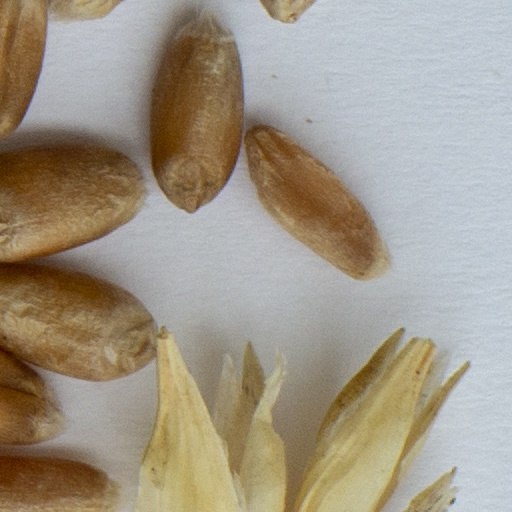Peel-poly: (134, 319, 476, 511)
